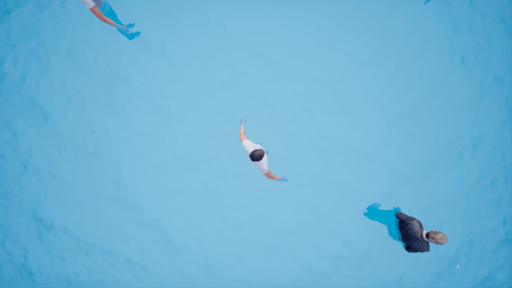person: (361, 202, 455, 255), (231, 115, 292, 186), (71, 1, 149, 44)
